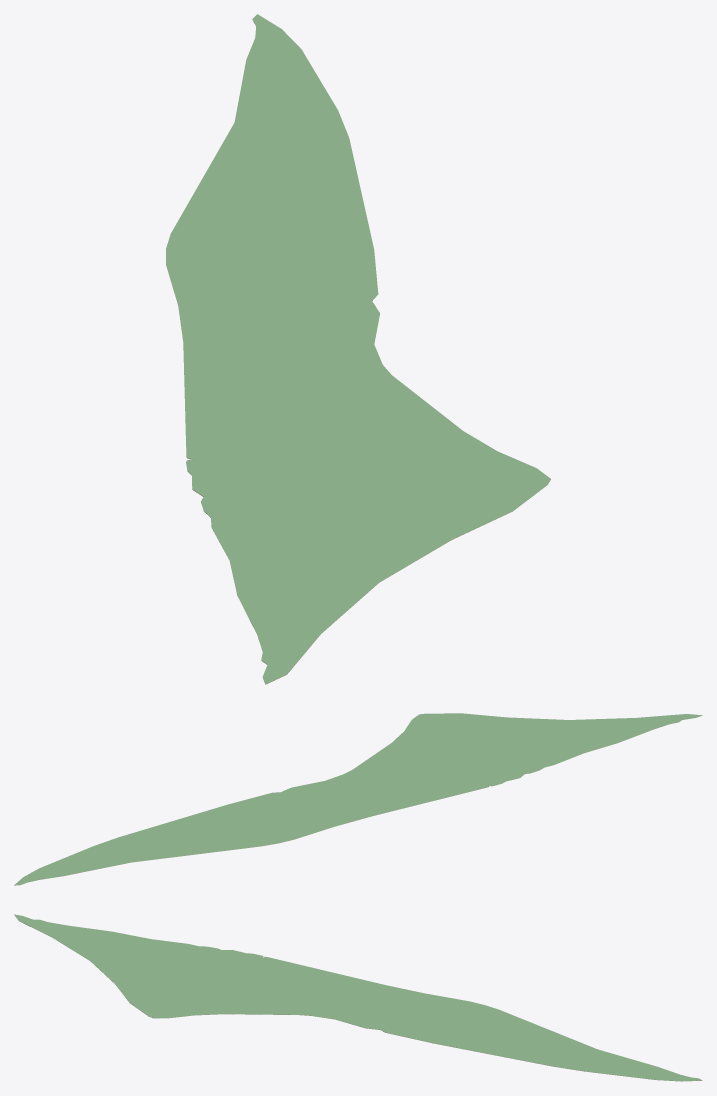
File: terrain.glb
3 renders of one model, top to bottom at view 1: azimuth 30°, elevation 25°; view 2: azimuth 150°, elevation 25°; view 3: azimuth 270°, elevation 25°, orthographic. The views are drawn at different scales.
Parts seen in each view (by area): view 1: Terrain merged mesh; view 2: Terrain merged mesh; view 3: Terrain merged mesh.
Boxes of the visible parts, x1,y1,x2,y2 form: Terrain merged mesh: (166, 14, 550, 684); Terrain merged mesh: (14, 713, 702, 885); Terrain merged mesh: (14, 914, 702, 1081).
Size of the model in its own units: 5867 by 3.44 by 10239.
